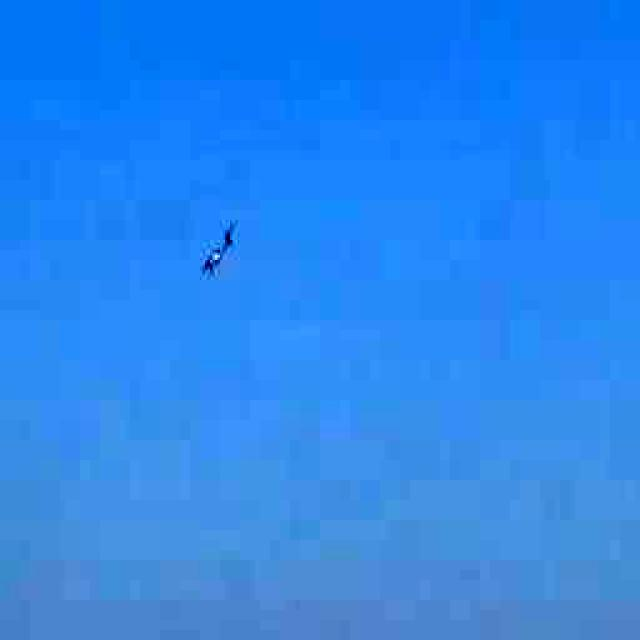bird: (190, 205, 248, 288)
